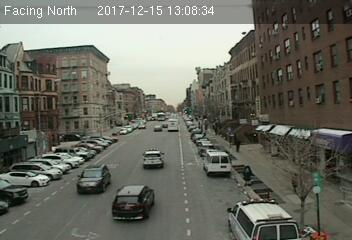car: (111, 186, 155, 221), (76, 164, 112, 192)
pedestrian: (242, 164, 253, 189)
police: (225, 198, 304, 240), (141, 147, 166, 168)
truck: (204, 151, 232, 176), (167, 119, 179, 131)
